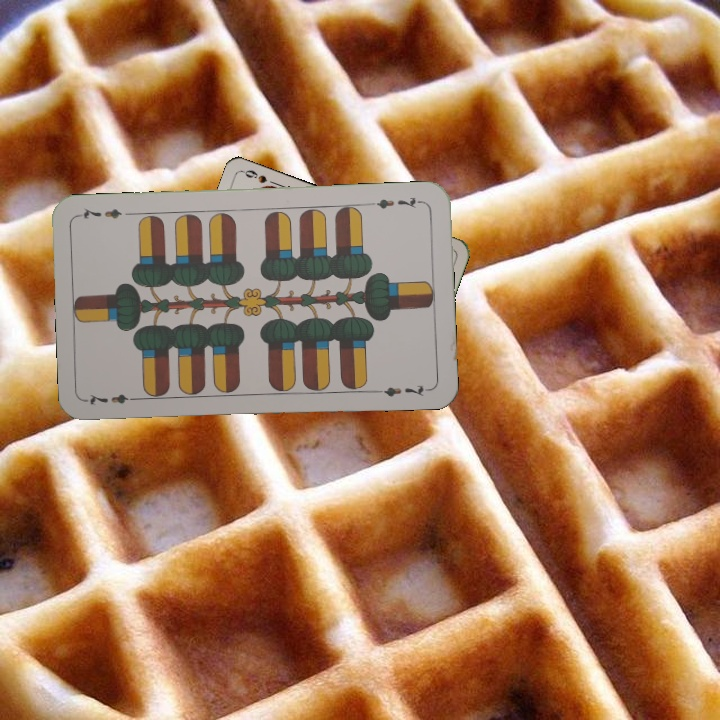E7: (366, 192, 425, 212), (83, 390, 142, 408)
